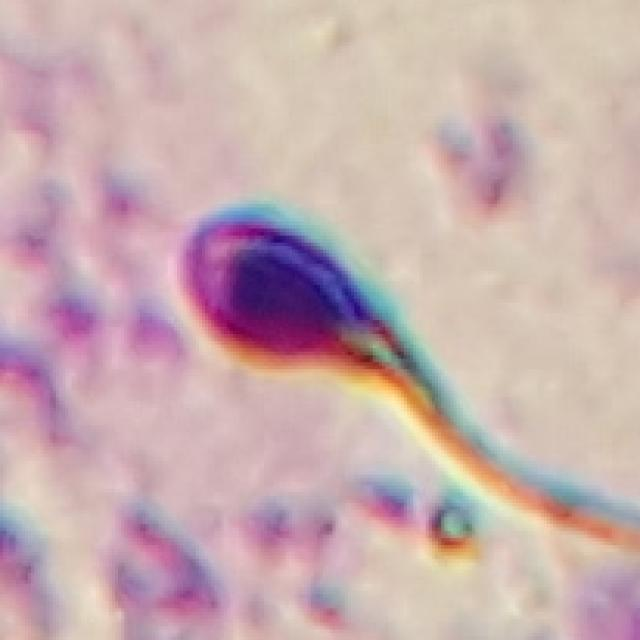normal sperm: (180, 204, 446, 425)
